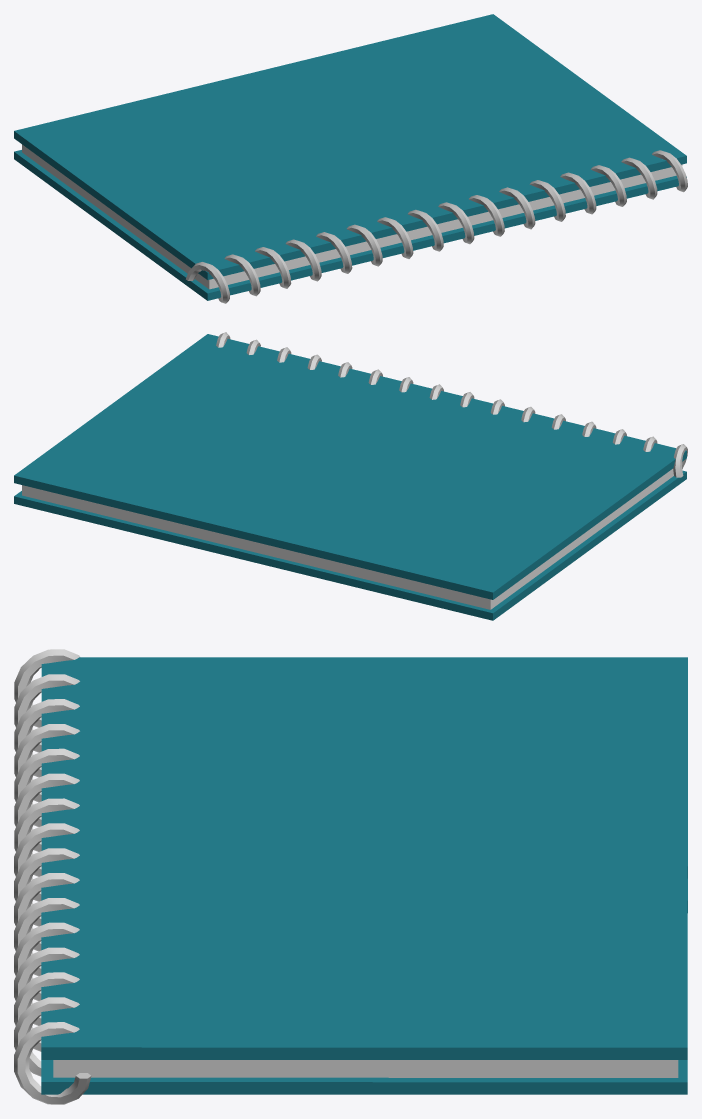
The model's file is object-book_03.glb.
3 views of the same model, one above another, from view 1: azimuth 30°, elevation 25°; view 2: azimuth 150°, elevation 25°; view 3: azimuth 270°, elevation 25° (orthographic). The views are drawn at different scales.
Visible parts, largest first — view 1: Book_lambert1_0, Spine_lambert1_0; view 2: Book_lambert1_0, Spine_lambert1_0; view 3: Book_lambert1_0, Spine_lambert1_0.
Part boxes in pixels (bbox=[...]): Book_lambert1_0: bbox=[14, 14, 686, 300]; Spine_lambert1_0: bbox=[186, 150, 687, 303]; Book_lambert1_0: bbox=[14, 334, 686, 620]; Spine_lambert1_0: bbox=[216, 332, 687, 477]; Book_lambert1_0: bbox=[41, 657, 687, 1094]; Spine_lambert1_0: bbox=[14, 649, 91, 1104].
Size of the model in its own units: 1.08 by 0.0885 by 0.765.
